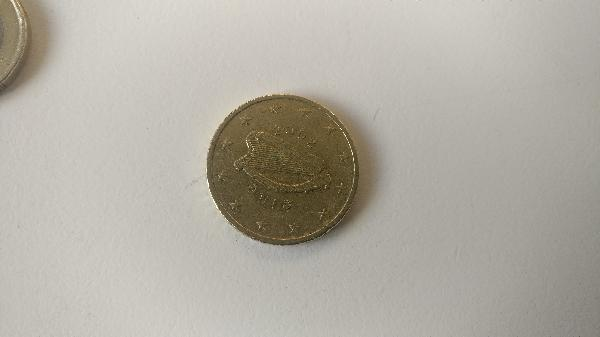Fifty Cent: (207, 91, 371, 248)
